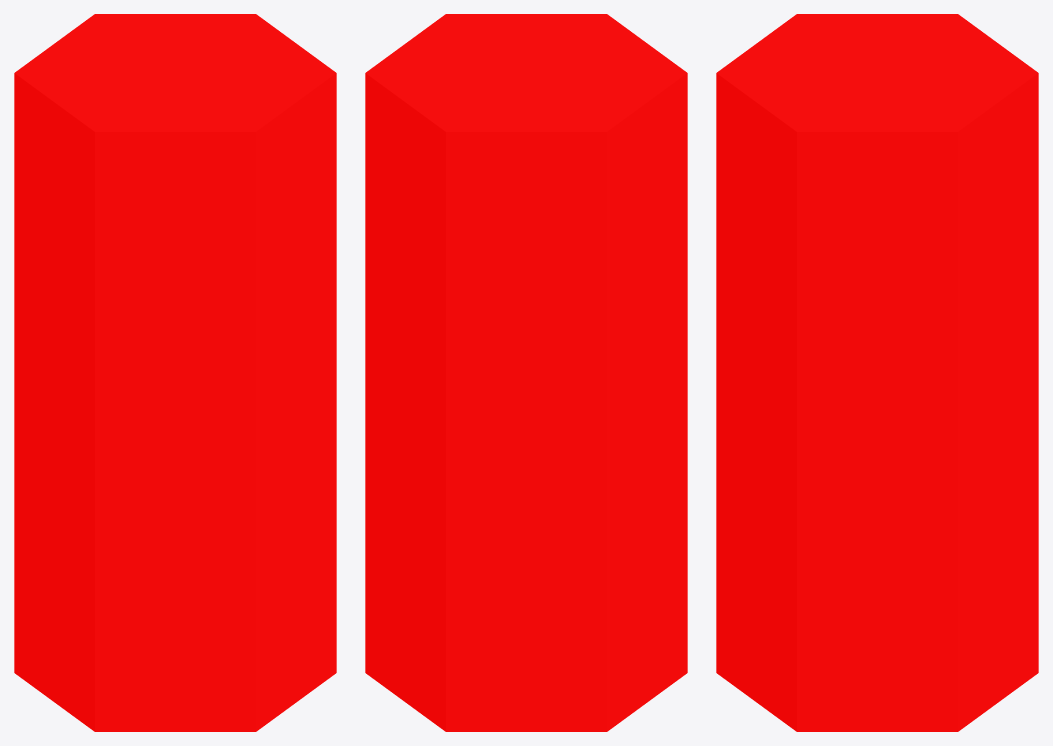
The model's file is Items.fbx_Candle.fbx.
The picture shows the model from 3 angles, left to right: view 1: azimuth 30°, elevation 25°; view 2: azimuth 150°, elevation 25°; view 3: azimuth 270°, elevation 25°; orthographic projection.
Parts seen in each view (by area): view 1: Interactable.016; view 2: Interactable.016; view 3: Interactable.016.
Boxes of the visible parts, <box> form: Interactable.016: <box>14,14,336,731</box>; Interactable.016: <box>365,14,687,731</box>; Interactable.016: <box>716,14,1038,731</box>.
Bounding box in the file's own units: 0.0885 × 0.21 × 0.1022.
